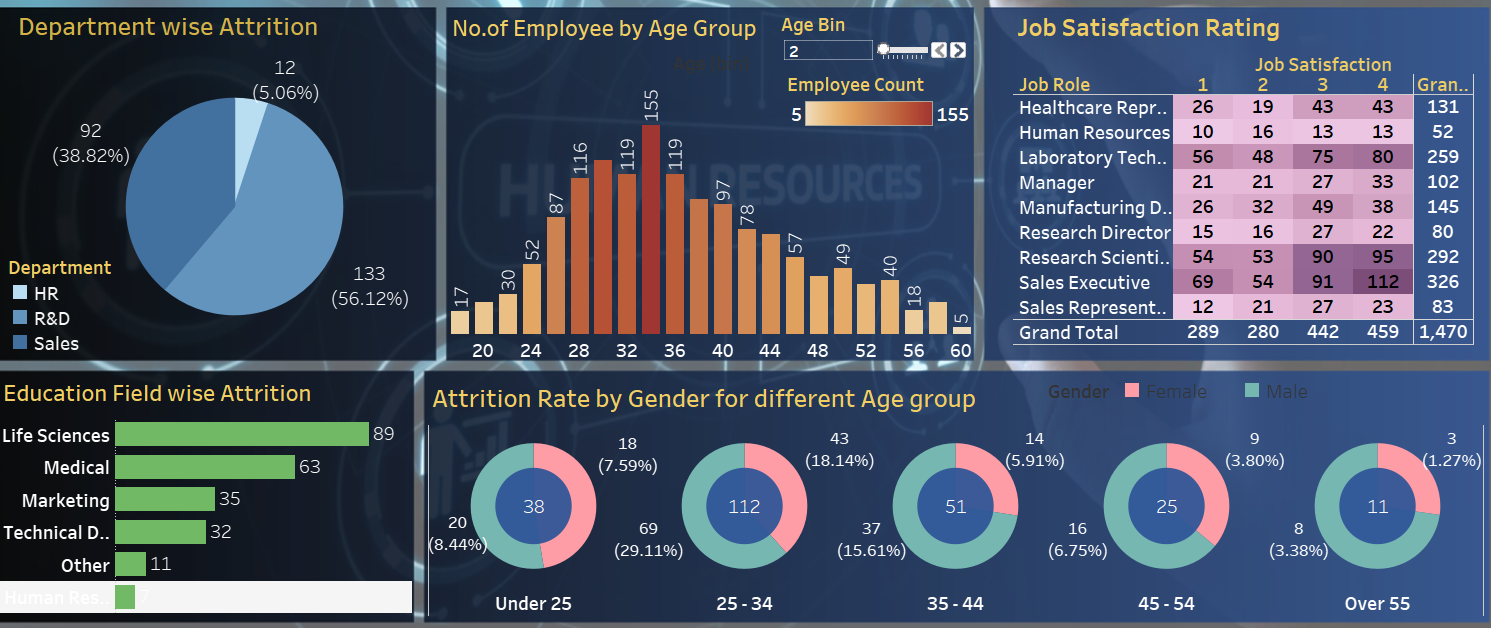

Layout of this report page (visuals, bound fields, positions):
{"tool":"tableau","page":{"name":"HR Analytics Dashboard","canvas":[1580,900],"ordinal":0},"visuals":[{"type":"image","box":[8,8,50.9,884]},{"type":"image","param":"Image/HR background.pptx.png","box":[58.9,8,1513.2,884]},{"type":"text","box":[75,35,1486,62]},{"type":"filter","title":"Sheet 1","param":"[federated.021bp4y0e0vbvv148qwoh1lmigm6].[none:Education:nk]","box":[1194,36,228,61]},{"type":"worksheet","title":"Attrition by Gender","mark":"Automatic","rows":["Gender"],"cols":["Calculation_605734161348820992","Calculation_605734161348820992"],"box":[1365,109,197,130]},{"type":"worksheet","title":"Sheet 1","mark":"Automatic","box":[68,110,1282,128]},{"type":"worksheet","title":"Department wise Attrition","mark":"Pie","box":[86,249,441,355]},{"type":"worksheet","title":"Job Satisfaction Rating","mark":"Square","rows":["Job Role"],"cols":["Job Satisfaction"],"box":[1085,250,480,354]},{"type":"worksheet","title":"No.of Employee by Age Group ","mark":"Automatic","rows":["Employee Count"],"cols":["Age (bin)"],"box":[520,252,526,355]},{"type":"parameter","param":"[Parameters].[Parameter 1]","box":[853,255,188,55]},{"type":"legend","title":"No.of Employee by Age Group ","param":"[federated.021bp4y0e0vbvv148qwoh1lmigm6].[sum:Employee Count:qk]","box":[859,315,187,68]},{"type":"legend","title":"Department wise Attrition","param":"[federated.021bp4y0e0vbvv148qwoh1lmigm6].[none:Department:nk]","box":[80,498,140,101]},{"type":"worksheet","title":"Education Field wise Attrition","mark":"Automatic","rows":["Education Field"],"cols":["Calculation_605734161348820992"],"box":[71,617,413,240]},{"type":"worksheet","title":"Attrition Rate by Gender for different Age group","mark":"Pie","rows":["Calculation_656962607377698817","Calculation_656962607377698817"],"cols":["CF_age band"],"box":[500,621,1056,240]},{"type":"legend","title":"Attrition Rate by Gender for different Age group","param":"[federated.021bp4y0e0vbvv148qwoh1lmigm6].[none:Gender:nk]","box":[1120,622,415,37]}]}

Visuals, with their boxes on the page's 1580x900 design canvas (x1, y1, x2, y2). These are canvas units, not pixel positions in the 1491x628 screenshot, which may show the page scaled, cropped or inside an application window:
image: 8/8/59/892
image: 59/8/1572/892
text: 75/35/1561/97
"Sheet 1" filter: 1194/36/1422/97
"Attrition by Gender" worksheet: 1365/109/1562/239
"Sheet 1" worksheet: 68/110/1350/238
"Department wise Attrition" worksheet (Pie marks): 86/249/527/604
"Job Satisfaction Rating" worksheet (Square marks): 1085/250/1565/604
"No.of Employee by Age Group " worksheet: 520/252/1046/607
parameter: 853/255/1041/310
"No.of Employee by Age Group " legend: 859/315/1046/383
"Department wise Attrition" legend: 80/498/220/599
"Education Field wise Attrition" worksheet: 71/617/484/857
"Attrition Rate by Gender for different Age group" worksheet (Pie marks): 500/621/1556/861
"Attrition Rate by Gender for different Age group" legend: 1120/622/1535/659
